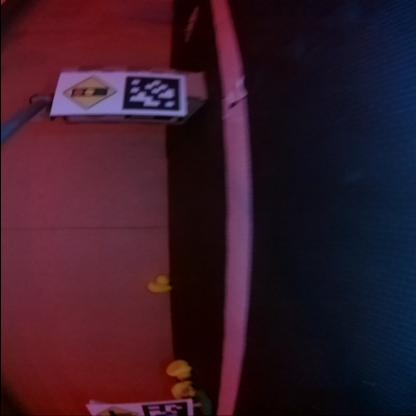Duckie: (164, 360, 190, 380), (146, 275, 170, 292), (170, 380, 192, 398)
Intersection sign: (90, 404, 136, 416)
QR code: (122, 74, 180, 110), (140, 402, 188, 415)
Signal sign: (61, 75, 119, 110)
